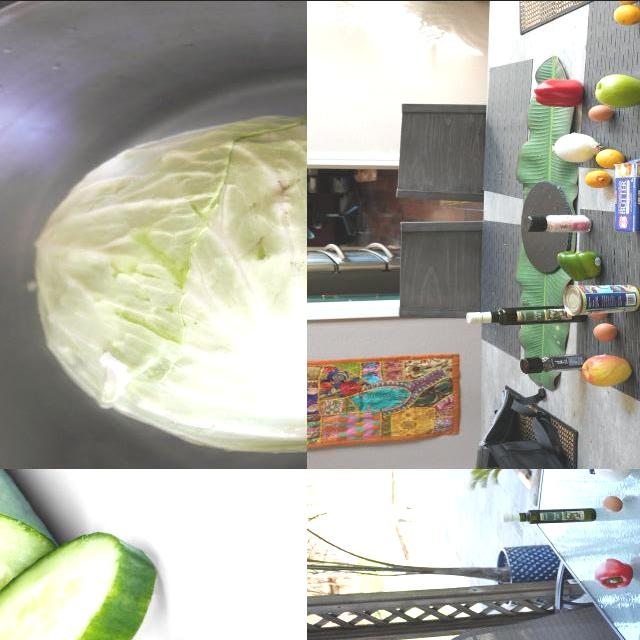bell_pepper: (516, 351, 596, 379), (531, 76, 583, 110), (557, 249, 603, 281), (592, 558, 636, 591)
cabbage: (24, 115, 308, 458)
egg: (585, 103, 617, 125), (592, 320, 622, 342), (602, 493, 629, 513), (590, 308, 612, 322)
onion: (550, 131, 595, 163), (595, 469, 635, 487)
